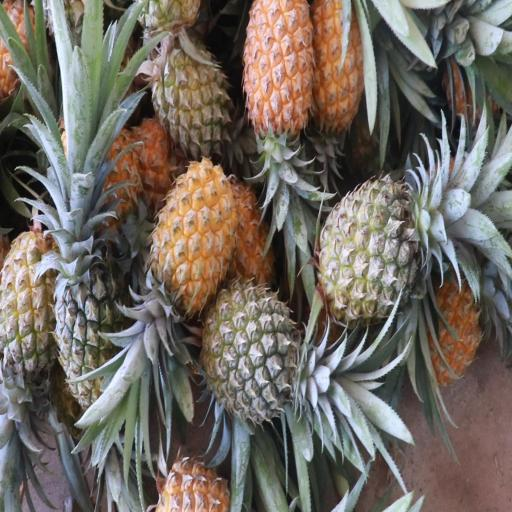------------------------------: (0, 222, 65, 461)
Pineapple - v8 v1: (134, 158, 239, 344), (240, 1, 312, 214), (311, 1, 366, 164)
